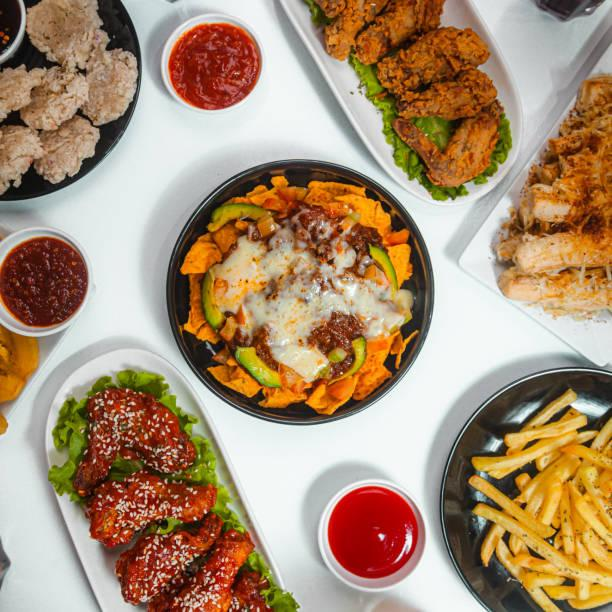Braised Crucian Carp: (38, 342, 298, 611), (166, 160, 427, 422), (455, 28, 612, 366), (266, 0, 529, 197), (439, 370, 612, 610)
